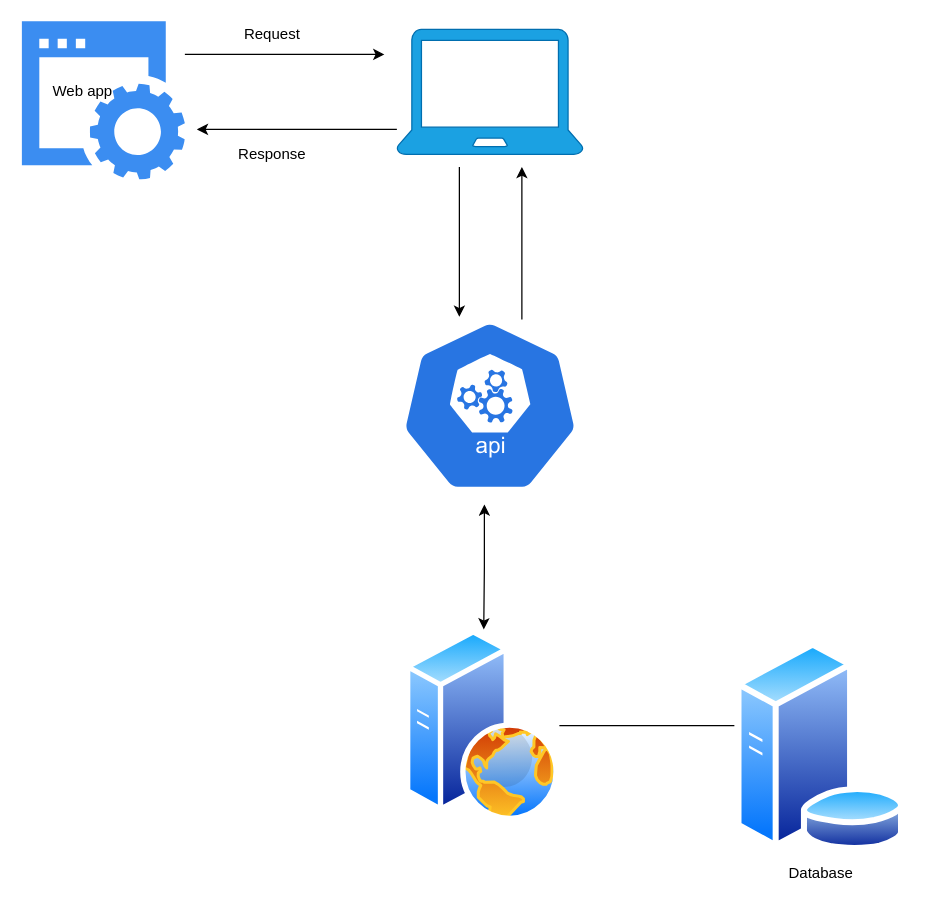
Some shapes in this 928 by 904 pixel diagram are drawn without their labels. Here are the shapes that lost their labels. From the top down, the box of each, then its label:
(396, 28, 583, 154): Internet
(405, 629, 559, 821): Web Server
